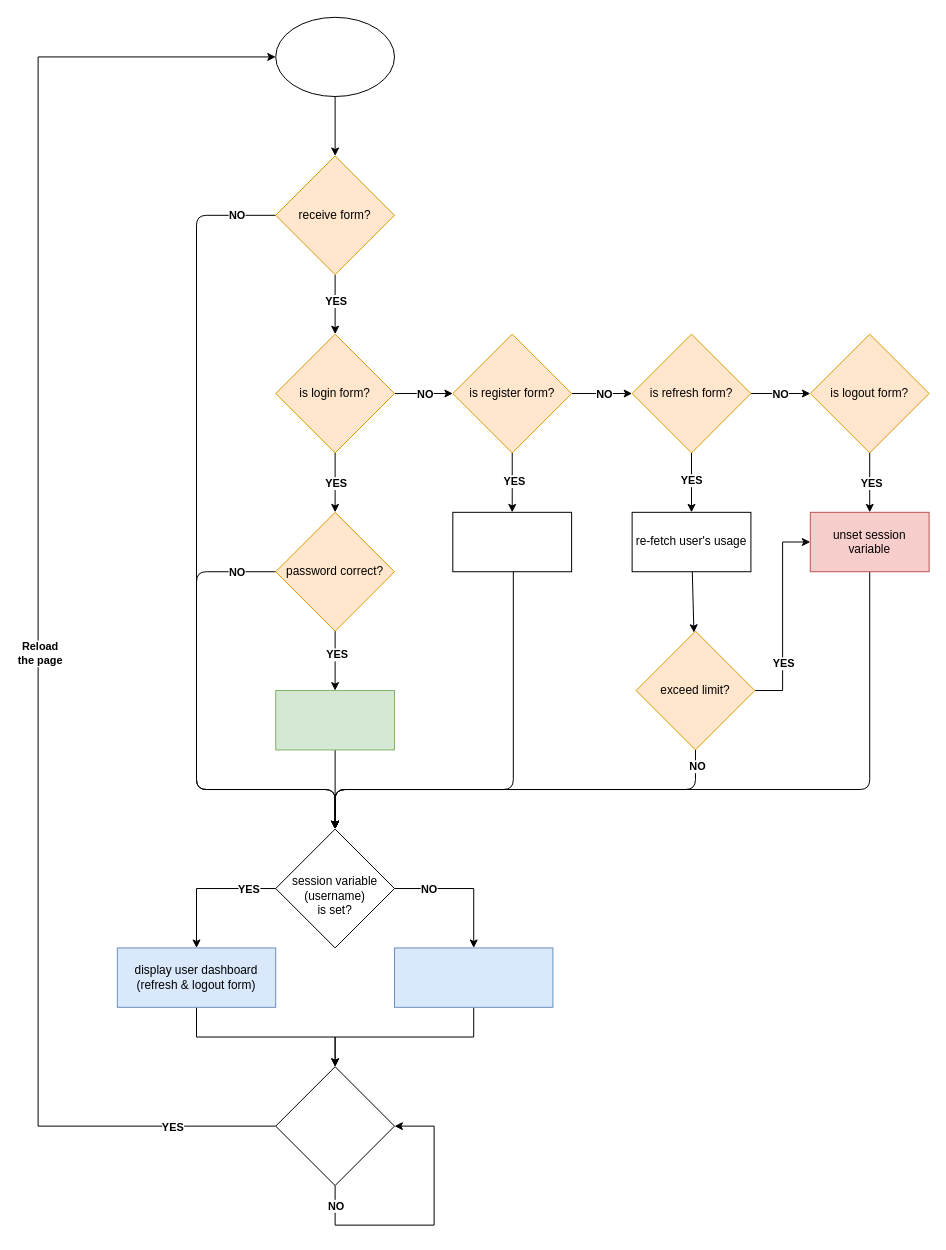
The diagram is 946 pixels wide and 1250 high, and some of its shapes have lost their labels. The shapes that lost their labels are listed below. From the top down, each one's box as (x1, y1, x2, y2) in pixels, then its label:
(275, 16, 395, 97): start running hotspotlogin.php
(452, 511, 572, 572): add user into database
(275, 690, 395, 750): (log user in) set session variable, reset usage
(394, 947, 553, 1007): display login page (login & register form)
(275, 1066, 395, 1186): some form is post?
